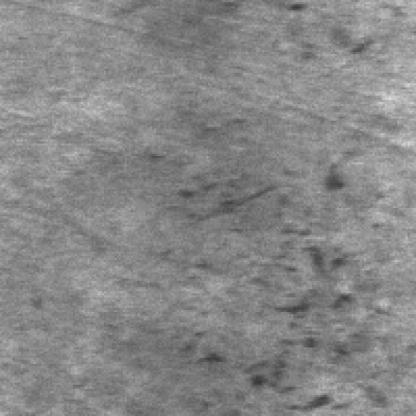rolled-in_scale: (181, 154, 401, 410), (270, 0, 415, 62)
